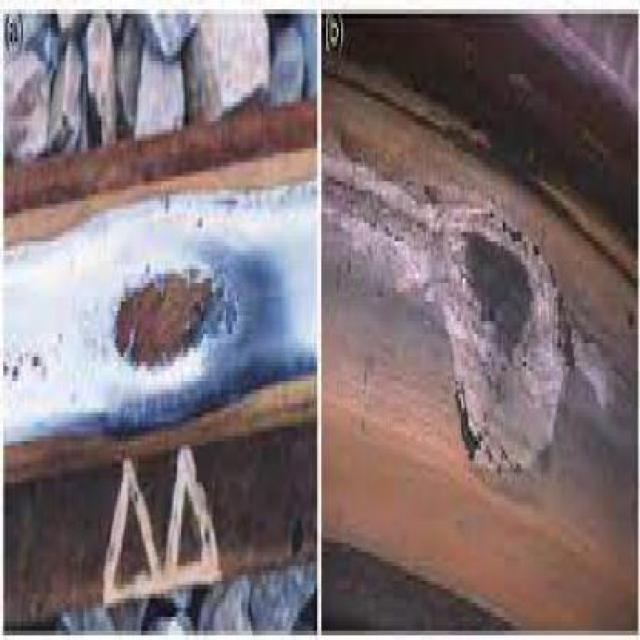defective: (4, 130, 339, 587), (359, 101, 640, 599)
